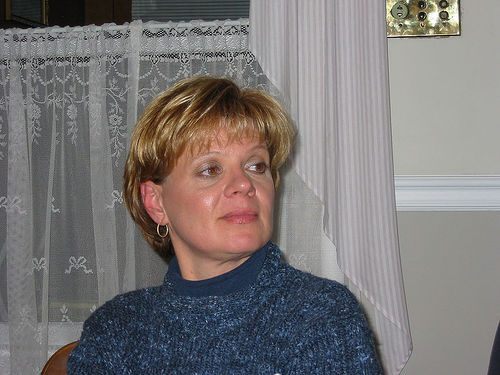without_mask: (140, 124, 282, 270)
